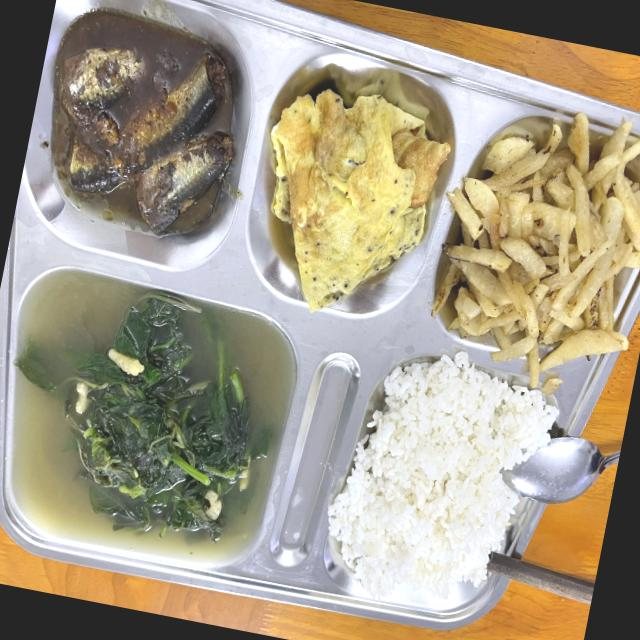ca kho: (51, 10, 236, 237)
canh cai: (8, 270, 296, 565)
com: (328, 351, 558, 600)
trung chien: (269, 86, 450, 306)
